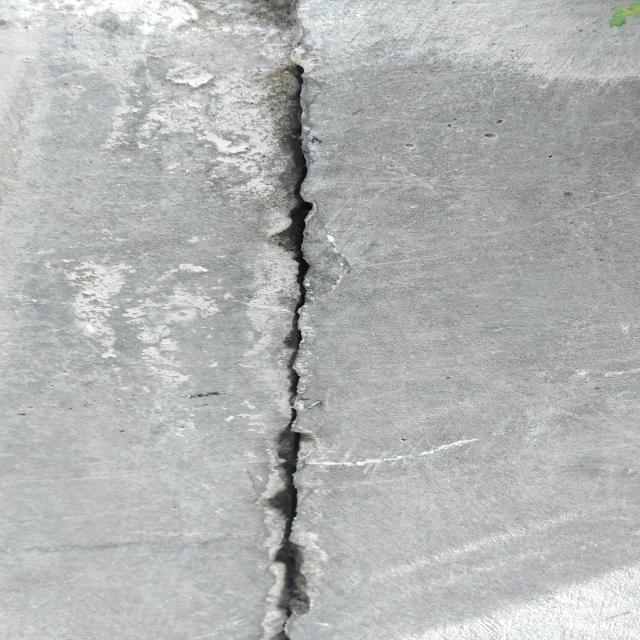Crack: (239, 2, 324, 639)
